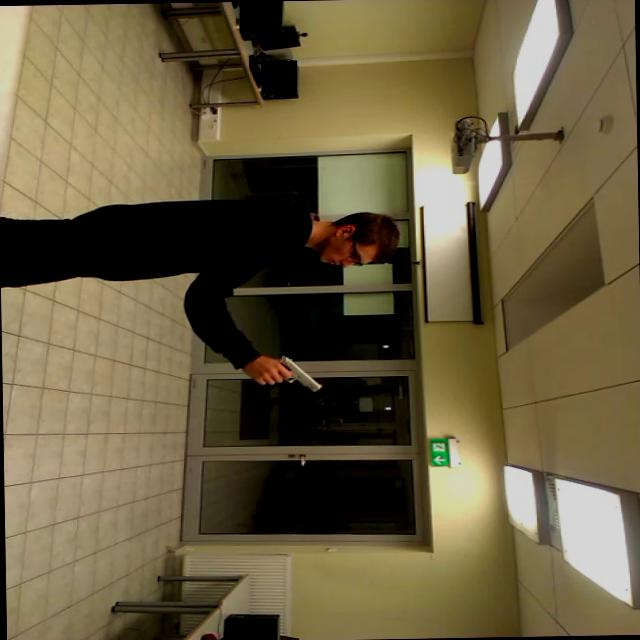handgun: (245, 352, 332, 397)
